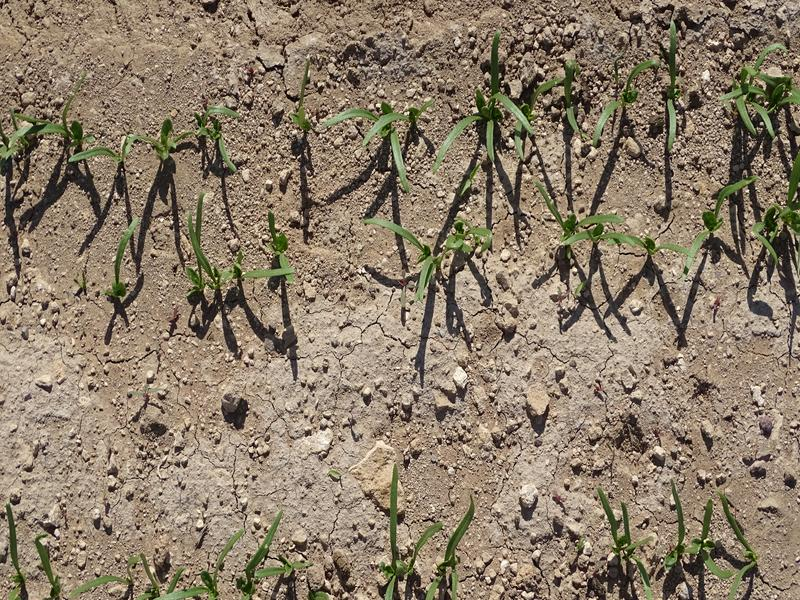Espinaca: (598, 487, 757, 596), (374, 458, 465, 600), (81, 98, 237, 179), (85, 527, 245, 600), (681, 170, 800, 260), (185, 210, 297, 303), (449, 45, 529, 164), (377, 220, 488, 292), (559, 58, 645, 146), (342, 91, 417, 184), (726, 41, 796, 131), (561, 216, 678, 257), (5, 96, 77, 161), (246, 520, 309, 578), (101, 224, 147, 297), (667, 28, 683, 150)
